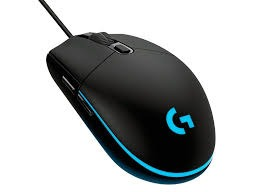mouse: (41, 24, 229, 184)
